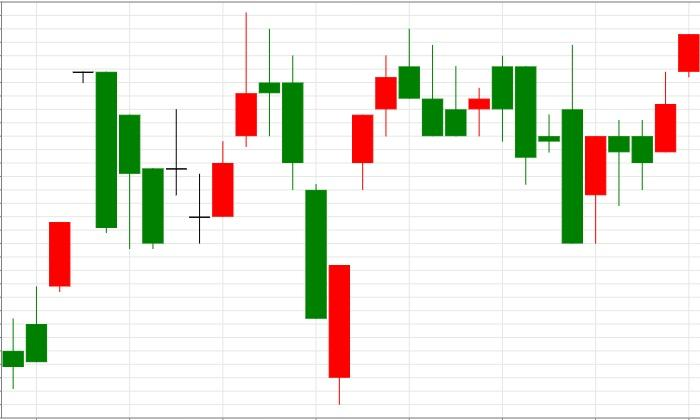three_white_soldiers_rise: (259, 29, 398, 405)
